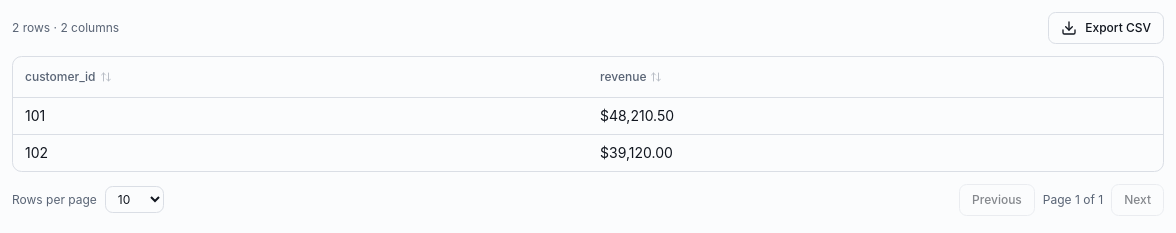
Test case: ResultTable › sorts rows ascending then descending when a column header is clicked twice
This screenshot has width=1176, height=233.
Click the button with aria-label "Sort by revenue" at (631, 77), box [600,69,662,85]
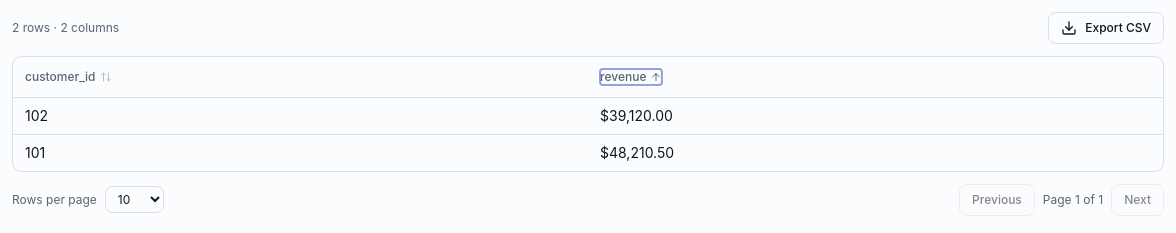
Check: the text "$39,120.00" is shown, box [588,97,1163,134]
Click the button with aria-label "Sort by revenue" at (631, 77), box [600,69,662,85]
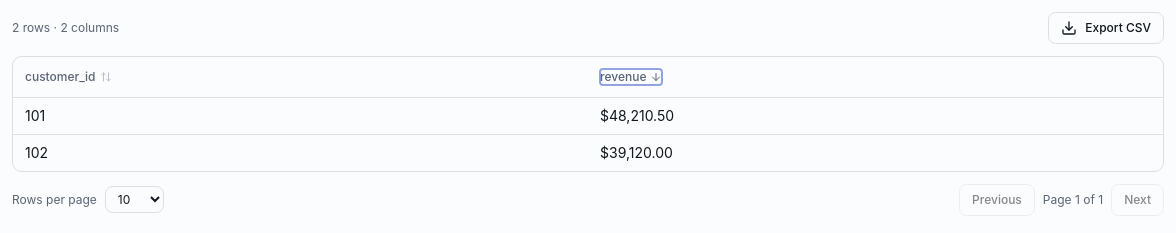
Check: the text "$48,210.50" is shown, box [588,97,1163,134]
